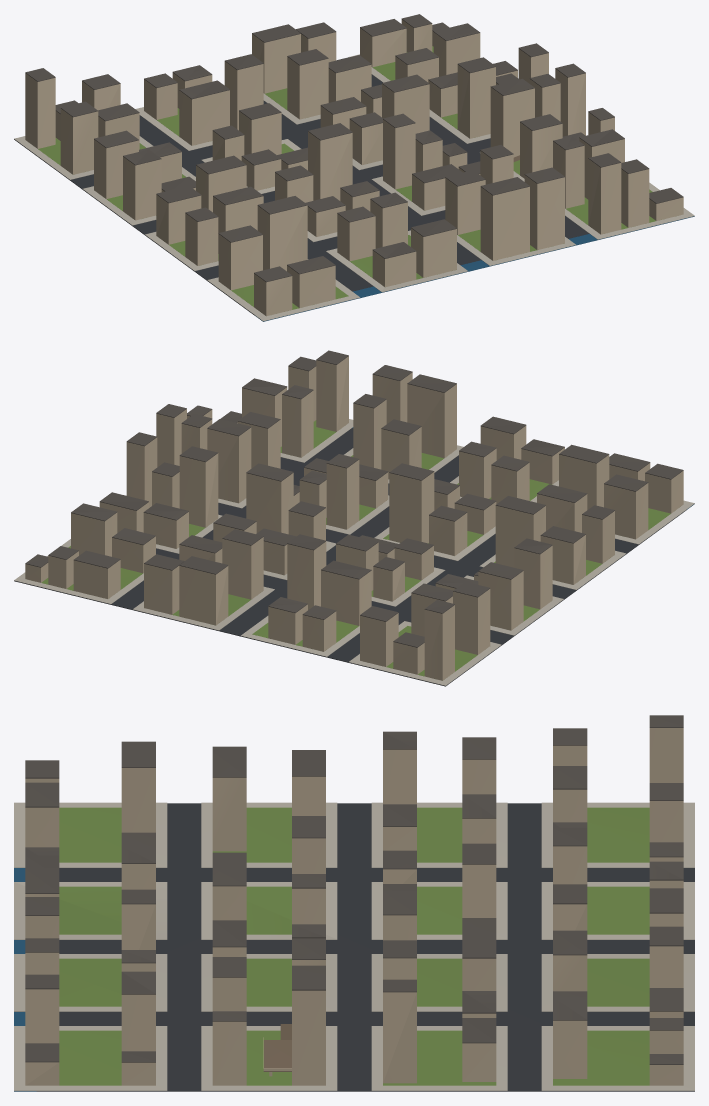
Rendered from nyc-standin.glb.
3 renders of one model, top to bottom at view 1: azimuth 30°, elevation 25°; view 2: azimuth 150°, elevation 25°; view 3: azimuth 270°, elevation 25°, orthographic. The views are drawn at different scales.
Parts seen in each view (by area): view 1: blocking__wall, blocking__roof, walkable-ground__paved, walkable-ground__roadbed, walkable-ground__land, walkable-ground__water; view 2: blocking__wall, blocking__roof, walkable-ground__roadbed, walkable-ground__paved, walkable-ground__land; view 3: blocking__wall, walkable-ground__land, walkable-ground__roadbed, blocking__roof, walkable-ground__paved, walkable-elevated__deck.
Part boxes in pixels (left/top/right/bottom): blocking__wall: left=25, top=19, right=683, bottom=316; blocking__roof: left=25, top=14, right=683, bottom=282; walkable-ground__paved: left=14, top=54, right=694, bottom=321; walkable-ground__roadbed: left=14, top=57, right=589, bottom=315; walkable-ground__land: left=38, top=46, right=655, bottom=309; walkable-ground__water: left=255, top=216, right=694, bottom=321; blocking__wall: left=25, top=356, right=683, bottom=680; blocking__roof: left=25, top=350, right=683, bottom=647; walkable-ground__roadbed: left=14, top=428, right=686, bottom=686; walkable-ground__paved: left=14, top=419, right=694, bottom=685; walkable-ground__land: left=41, top=420, right=670, bottom=676; blocking__wall: left=25, top=728, right=683, bottom=1085; walkable-ground__land: left=59, top=807, right=649, bottom=1085; walkable-ground__roadbed: left=36, top=803, right=694, bottom=1091; blocking__roof: left=25, top=715, right=683, bottom=1064; walkable-ground__paved: left=14, top=802, right=694, bottom=1090; walkable-elevated__deck: left=263, top=1024, right=291, bottom=1071.
Bounding box in the file's own units: 240 × 37.81 × 240.
